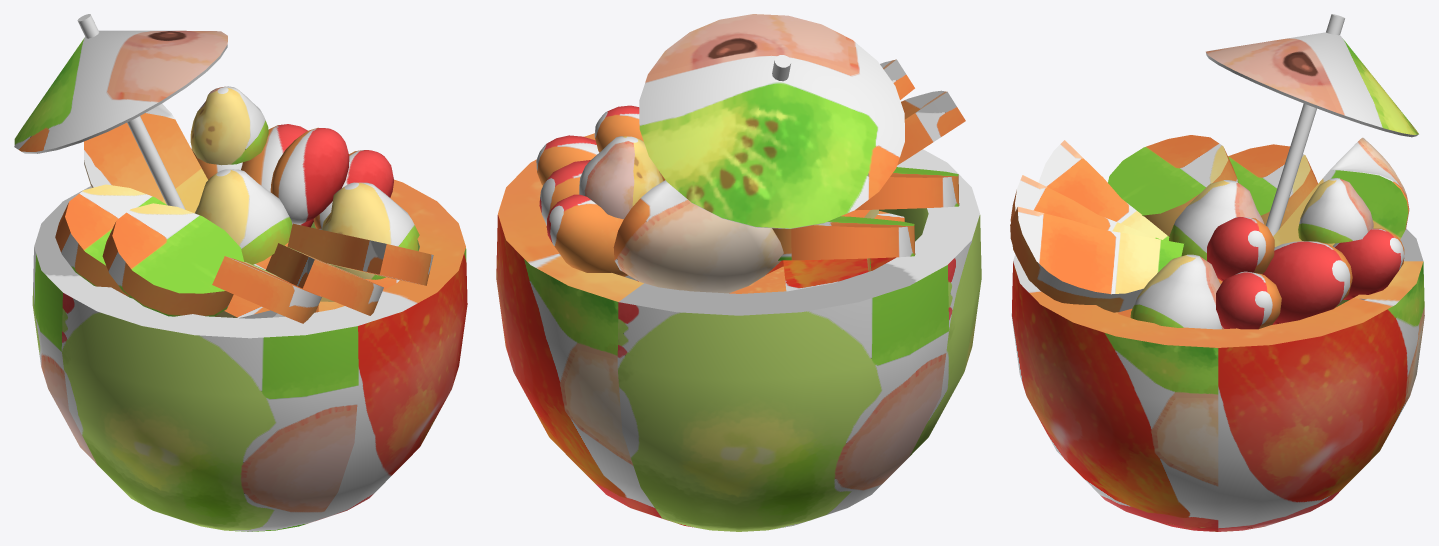
File: 5_5_pineaple.fbx
3 renders of one model, left to right at view 1: azimuth 30°, elevation 25°; view 2: azimuth 150°, elevation 25°; view 3: azimuth 270°, elevation 25°, orthographic. The views are drawn at different scales.
Parts seen in each view (by area): view 1: Circle.035, Cylinder.005, Circle.045, Sphere.037, Circle.050, Sphere.040, Circle.047, Circle.051, Circle.049, Circle.046, Circle.048, Circle.044 (+4 smaller); view 2: Circle.035, Cylinder.005, Sphere.037, Circle.047, Circle.051, Sphere.041, Circle.045, Circle.044, Cube.029, Sphere.039, Sphere.040, Sphere.038 (+2 smaller); view 3: Circle.035, Circle.049, Cylinder.005, Circle.045, Sphere.038, Circle.046, Sphere.037, Circle.044, Circle.051, Circle.050, Circle.047, Sphere.040 (+4 smaller).
Part boxes in pixels (bbox=[...]): Circle.035: bbox=[32, 179, 467, 531]; Cylinder.005: bbox=[14, 30, 227, 153]; Circle.045: bbox=[102, 203, 244, 316]; Sphere.037: bbox=[84, 104, 207, 213]; Circle.050: bbox=[195, 169, 292, 264]; Sphere.040: bbox=[270, 127, 349, 224]; Circle.047: bbox=[55, 184, 166, 298]; Circle.051: bbox=[190, 86, 268, 165]; Circle.049: bbox=[287, 223, 433, 285]; Circle.046: bbox=[322, 182, 419, 279]; Circle.048: bbox=[266, 243, 383, 315]; Circle.044: bbox=[212, 256, 321, 323]; Circle.035: bbox=[496, 133, 981, 531]; Cylinder.005: bbox=[639, 14, 904, 228]; Sphere.037: bbox=[613, 180, 783, 293]; Circle.047: bbox=[772, 216, 915, 260]; Circle.051: bbox=[579, 136, 663, 219]; Sphere.041: bbox=[546, 194, 627, 276]; Circle.045: bbox=[855, 167, 959, 210]; Circle.044: bbox=[897, 90, 965, 165]; Cube.029: bbox=[783, 258, 871, 291]; Sphere.039: bbox=[536, 135, 599, 185]; Sphere.040: bbox=[594, 105, 665, 180]; Sphere.038: bbox=[539, 160, 590, 225]; Circle.035: bbox=[1011, 228, 1424, 531]; Circle.049: bbox=[1010, 206, 1183, 312]; Cylinder.005: bbox=[1206, 32, 1418, 137]; Circle.045: bbox=[1108, 135, 1238, 236]; Sphere.038: bbox=[1262, 241, 1352, 324]; Circle.046: bbox=[1130, 254, 1223, 329]; Sphere.037: bbox=[1273, 137, 1409, 246]; Circle.044: bbox=[1038, 140, 1181, 256]; Circle.051: bbox=[1298, 178, 1373, 243]; Circle.050: bbox=[1169, 180, 1264, 260]; Circle.047: bbox=[1228, 144, 1317, 227]; Sphere.040: bbox=[1207, 217, 1274, 281].
Bounding box in the file's own units: 3.61 × 4.35 × 3.62.
